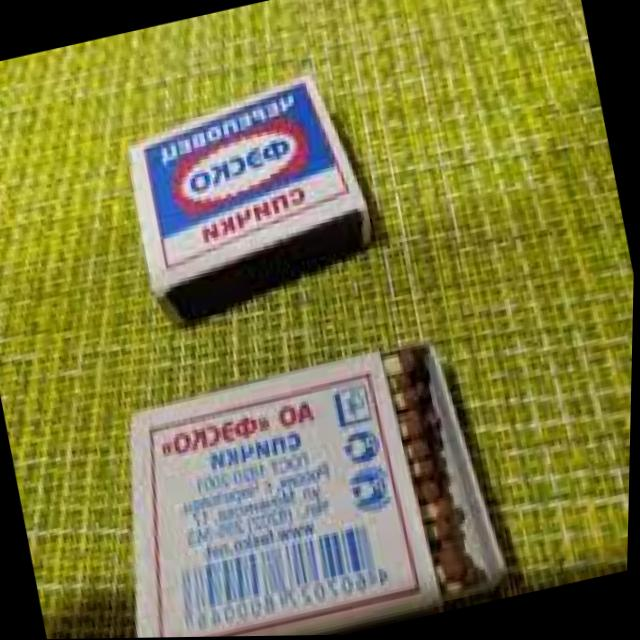match: (84, 339, 445, 639), (108, 63, 390, 339)
